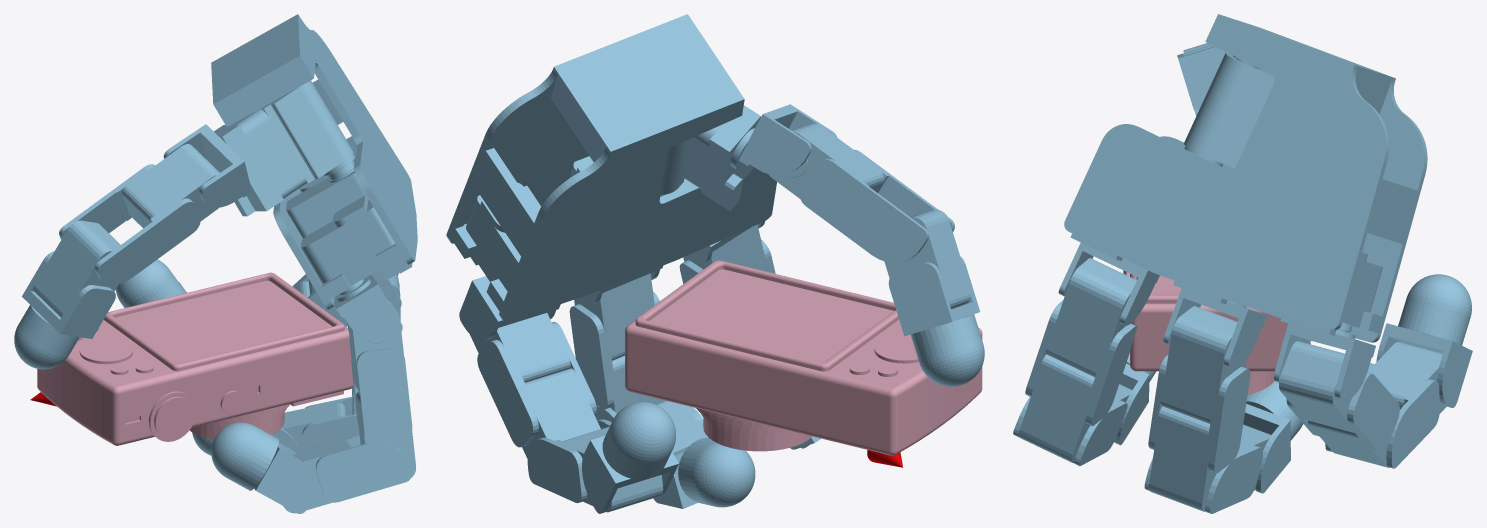
3 renders of one model, left to right at view 1: azimuth 30°, elevation 25°; view 2: azimuth 150°, elevation 25°; view 3: azimuth 270°, elevation 25°, orthographic. The views are drawn at different scales.
Visible parts, largest first — view 1: world, camera.stl; view 2: world, camera.stl; view 3: world, camera.stl.
Boxes of the visible parts, bbox=[...] form: world: bbox=[14, 14, 417, 513]; camera.stl: bbox=[37, 272, 353, 445]; world: bbox=[446, 14, 984, 513]; camera.stl: bbox=[625, 260, 982, 455]; world: bbox=[1013, 14, 1472, 513]; camera.stl: bbox=[1123, 270, 1310, 394].
Bounding box in the file's own units: 0.2022 × 0.1878 × 0.1648.
